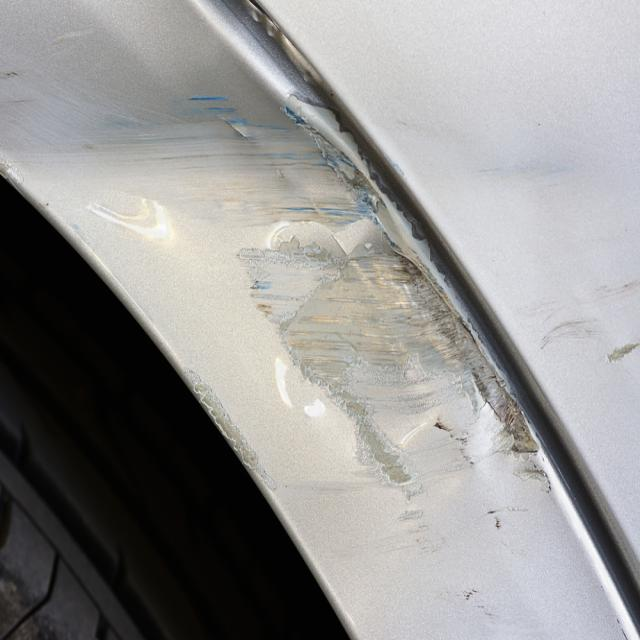scratch: (0, 60, 558, 630), (523, 259, 640, 381)
